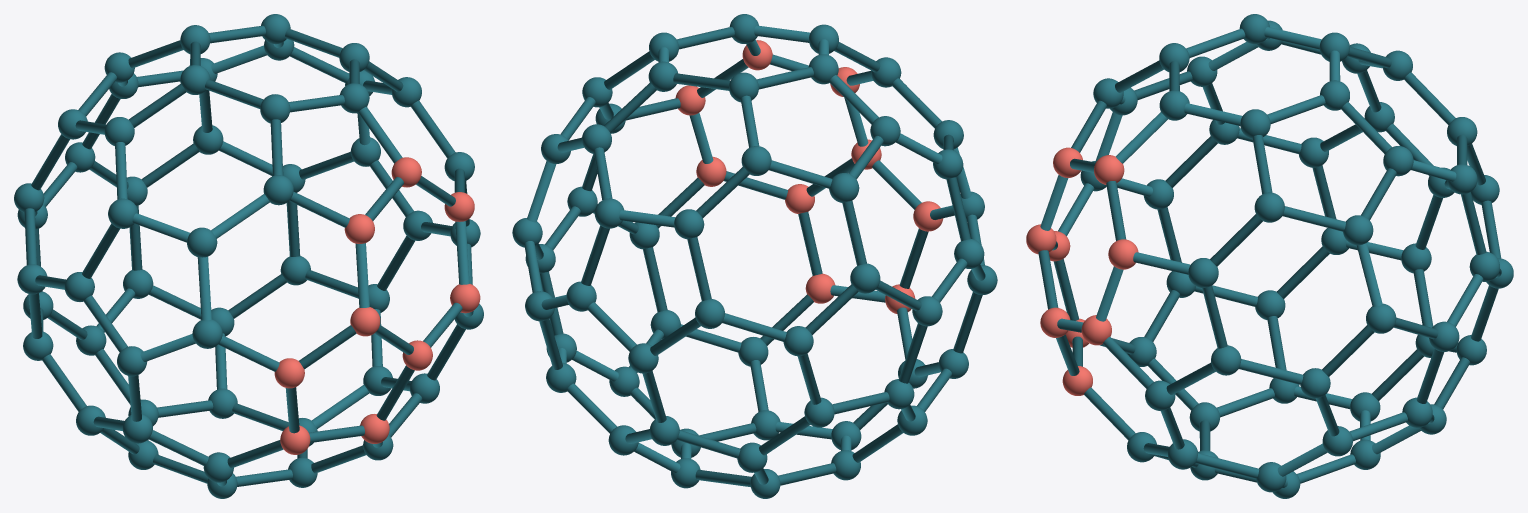
Rendered from fullerene-soccer-no-text.glb.
3 renders of one model, left to right at view 1: azimuth 30°, elevation 25°; view 2: azimuth 150°, elevation 25°; view 3: azimuth 270°, elevation 25°, orthographic.
Parts seen in each view (by area): view 1: soccerModel; view 2: soccerModel; view 3: soccerModel.
Boxes of the visible parts, x1,y1,x2,y2 form: soccerModel: [14, 14, 483, 498]; soccerModel: [512, 14, 997, 498]; soccerModel: [1026, 14, 1513, 498].
Size of the model in its own units: 7.32 by 7.13 by 7.43.
